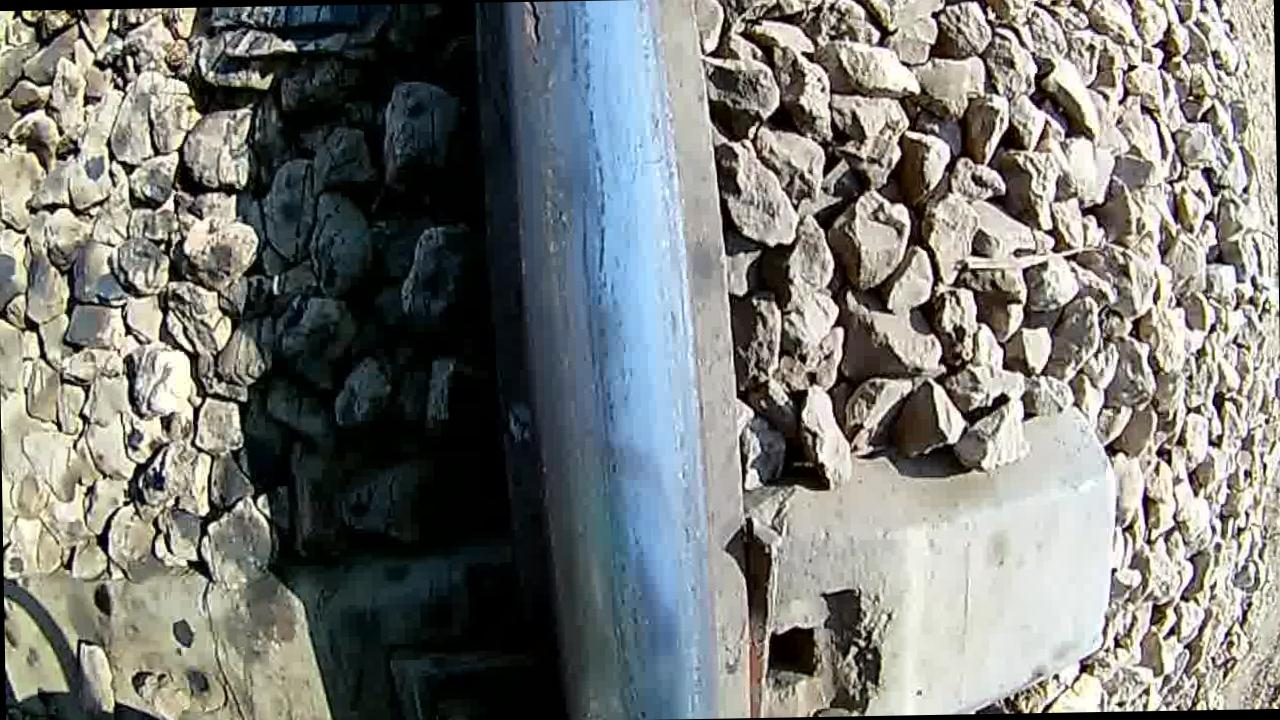crack: (500, 0, 693, 720)
